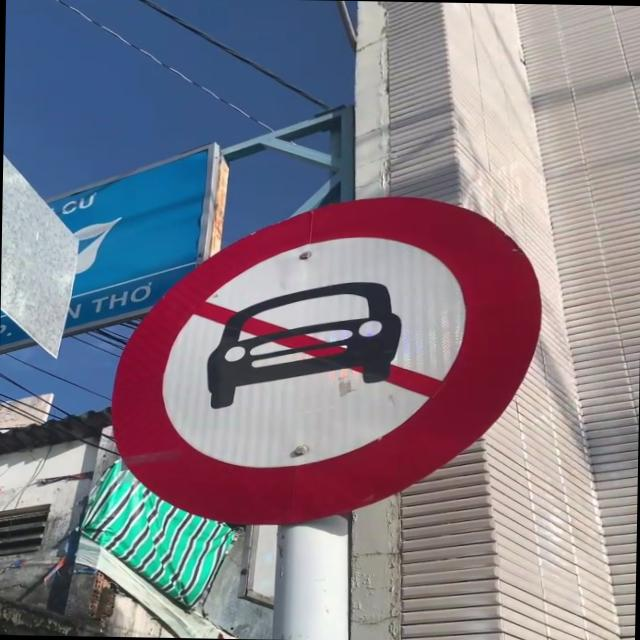Cam_O_To: (106, 186, 554, 538)
